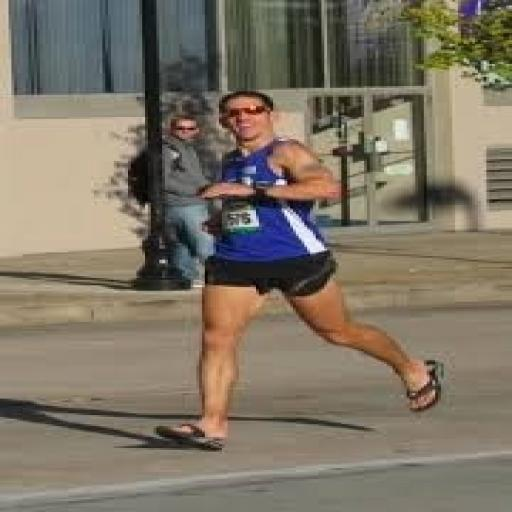running: (151, 88, 449, 453)
